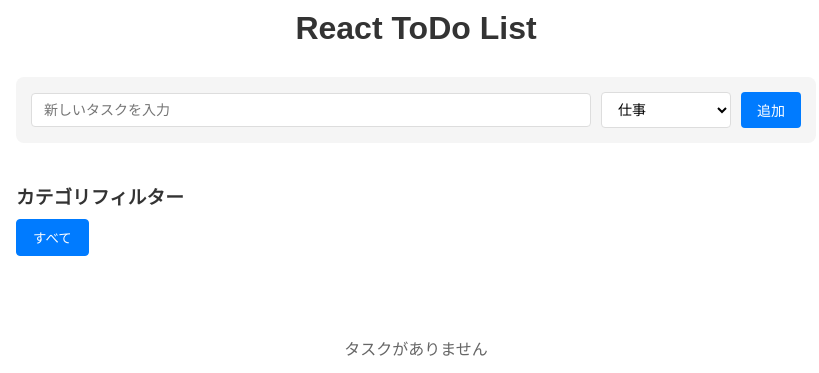
Test: App Integration Tests › adds a new todo
In the field with placeholder "新しいタスクを入力": (311, 110) [31,93,591,127], type "Test todo"
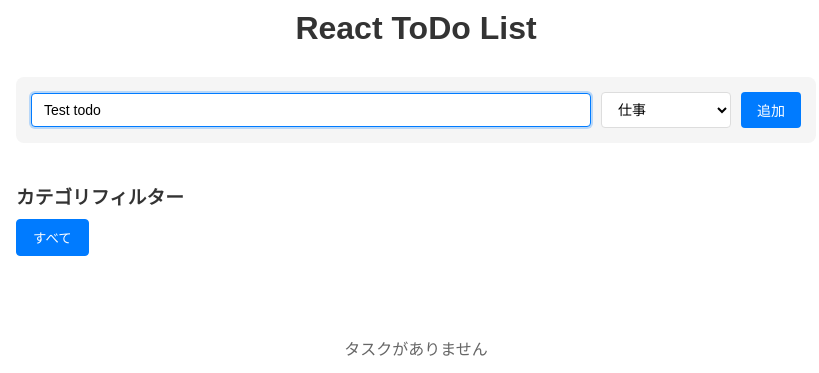
Click the button "追加": (771, 110) [741,92,801,128]
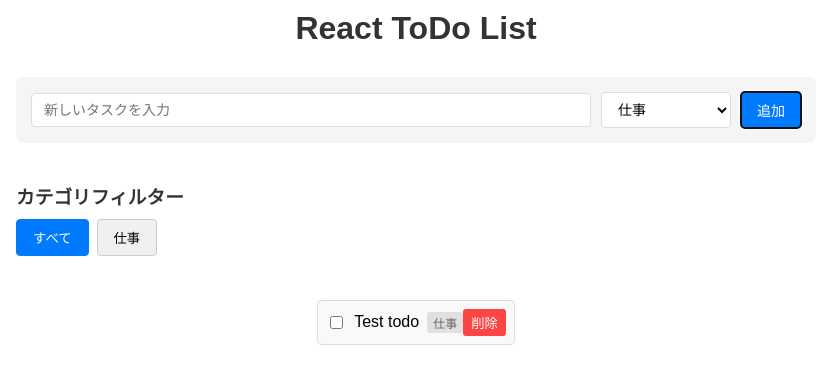
Expected: the text "Test todo" is shown, [354,313,419,331]
Expected: the text with class "todo-category" reads "仕事", [433,317,457,331]
Expected: the field with placeholder "新しいタスクを入力" is empty, [31,93,591,127]
